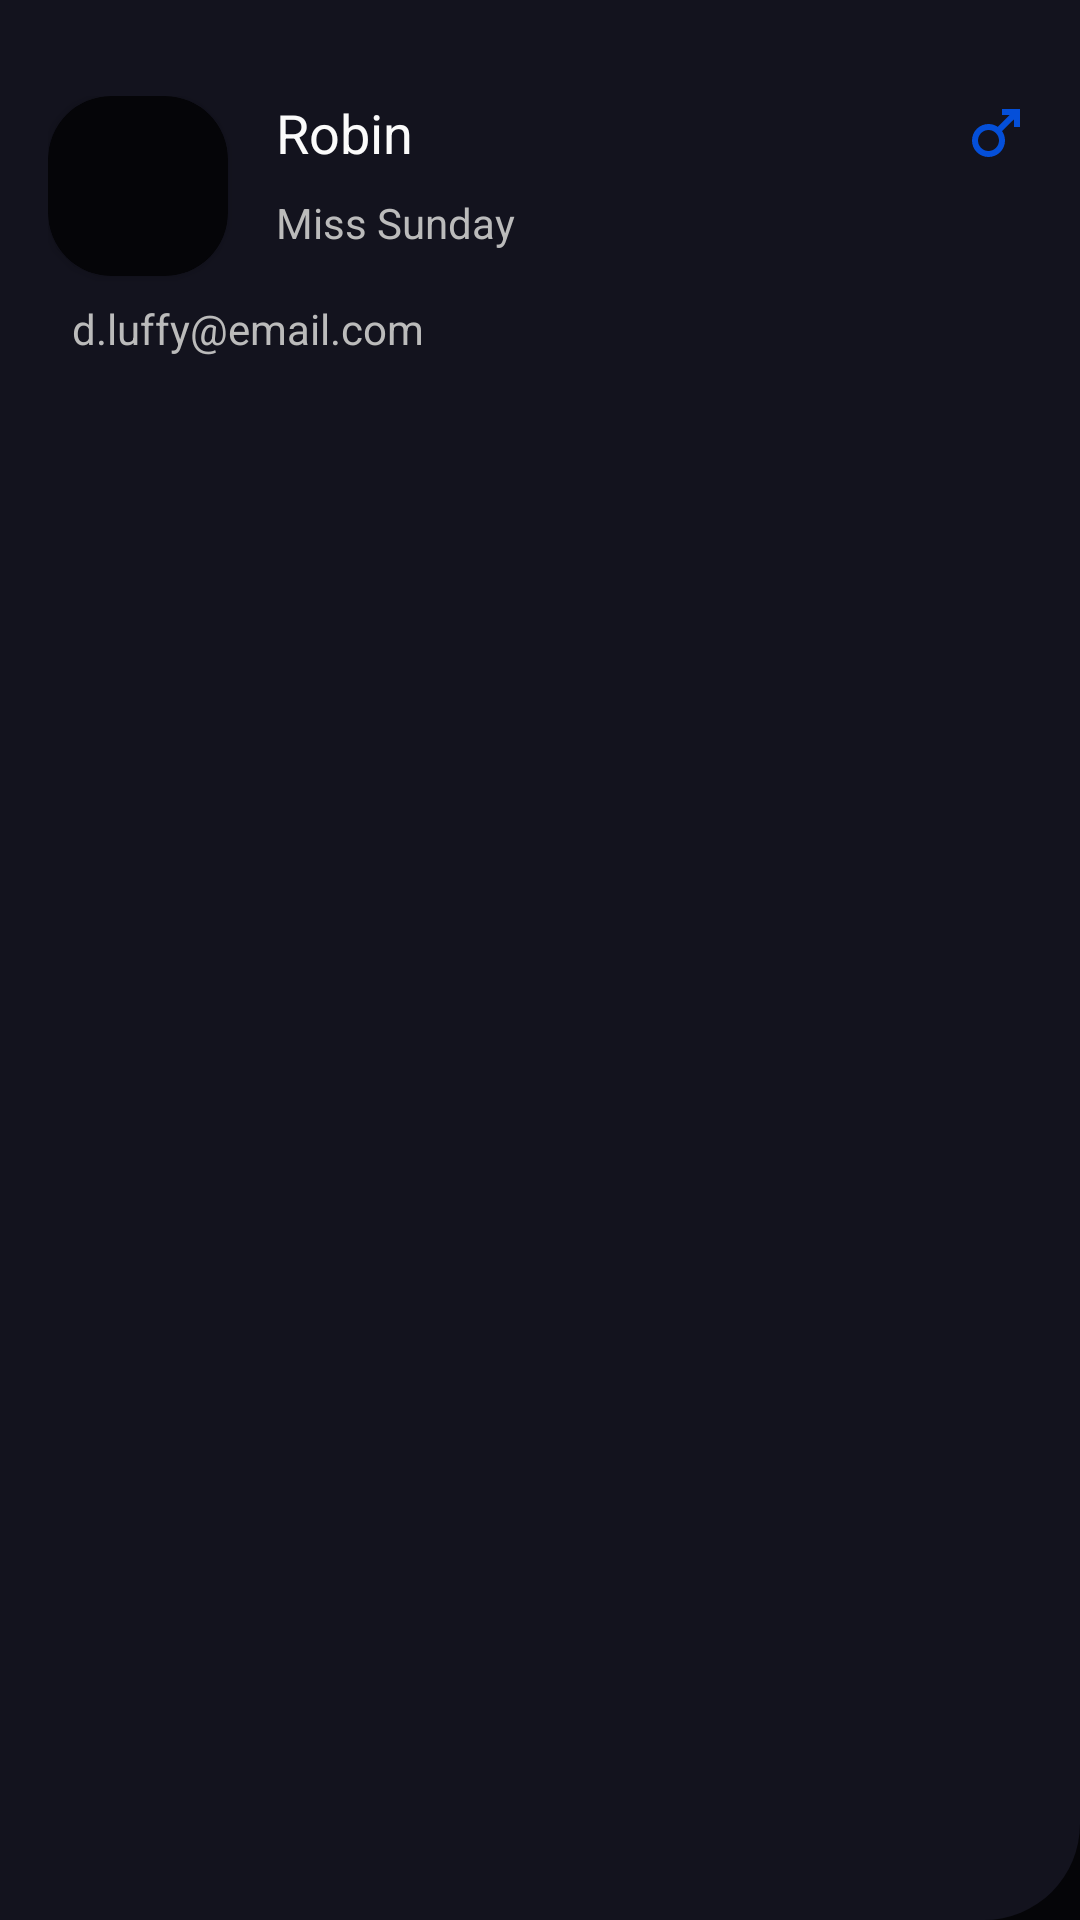

Locate icon controls on the screen. Image size 1080w x 1920h, boxes as [x1, y1, x2, y2].
Gênero do usuário: [972, 109, 1020, 157]
